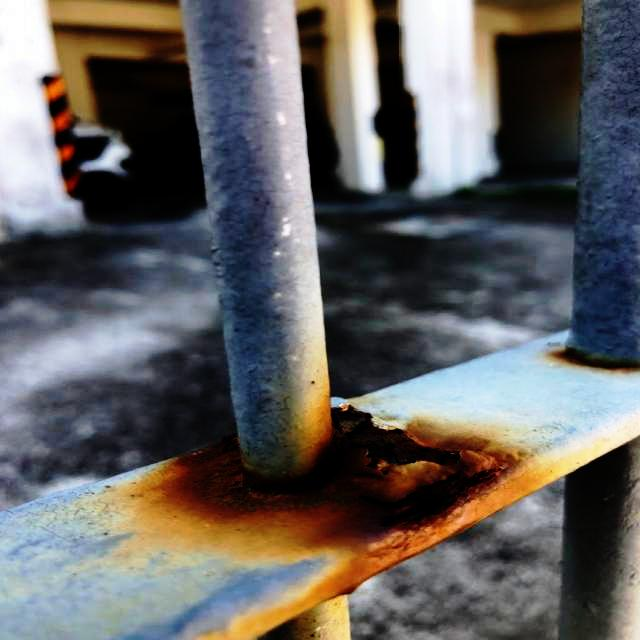Corrosion: (127, 396, 548, 613), (547, 347, 638, 374)
